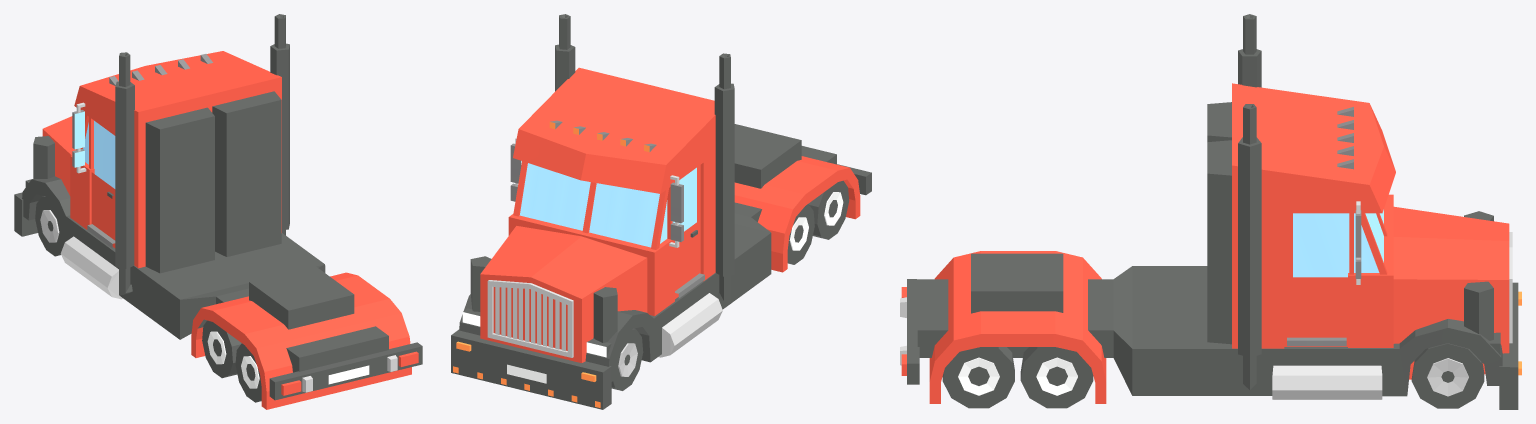
Rendered from transport_truck.001.glb.
The picture shows the model from 3 angles, left to right: view 1: azimuth 30°, elevation 25°; view 2: azimuth 150°, elevation 25°; view 3: azimuth 270°, elevation 25°; orthographic projection. The views are drawn at different scales.
Parts seen in each view (by area): view 1: transport_truck.001(Clone); view 2: transport_truck.001(Clone); view 3: transport_truck.001(Clone).
Part boxes in pixels (x1,y1,x2,y2): transport_truck.001(Clone): [14, 14, 422, 409]; transport_truck.001(Clone): [451, 14, 871, 409]; transport_truck.001(Clone): [900, 14, 1521, 409].
Bounding box in the file's own units: 2.13 × 3.07 × 5.6.
Materials: 1 (1 with a texture image).
